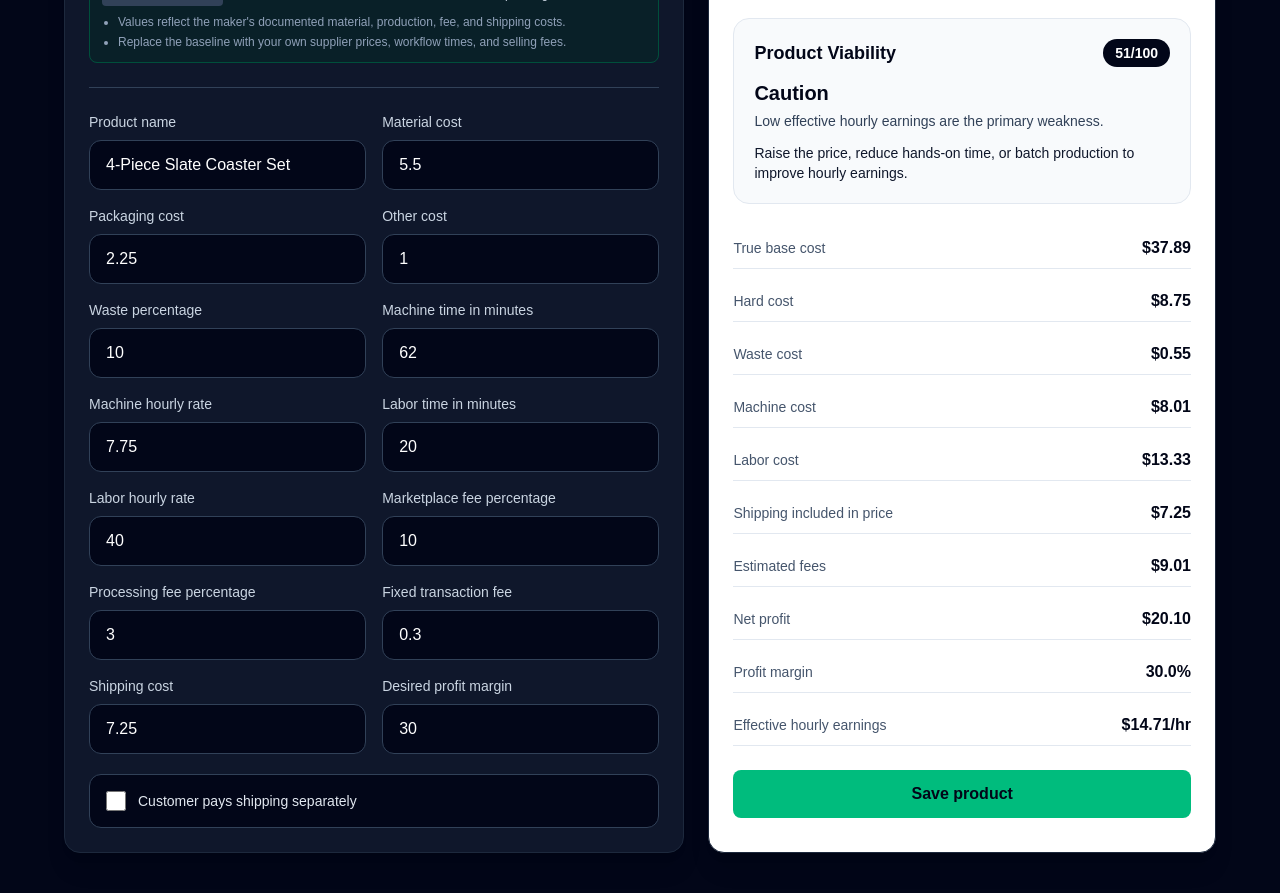
calculator save workflow › keeps the calculator operational when cloud configuration is missing
(page scrolled)
Step 1. Click the button "Save product" → click(962, 794), box [733, 770, 1191, 818]
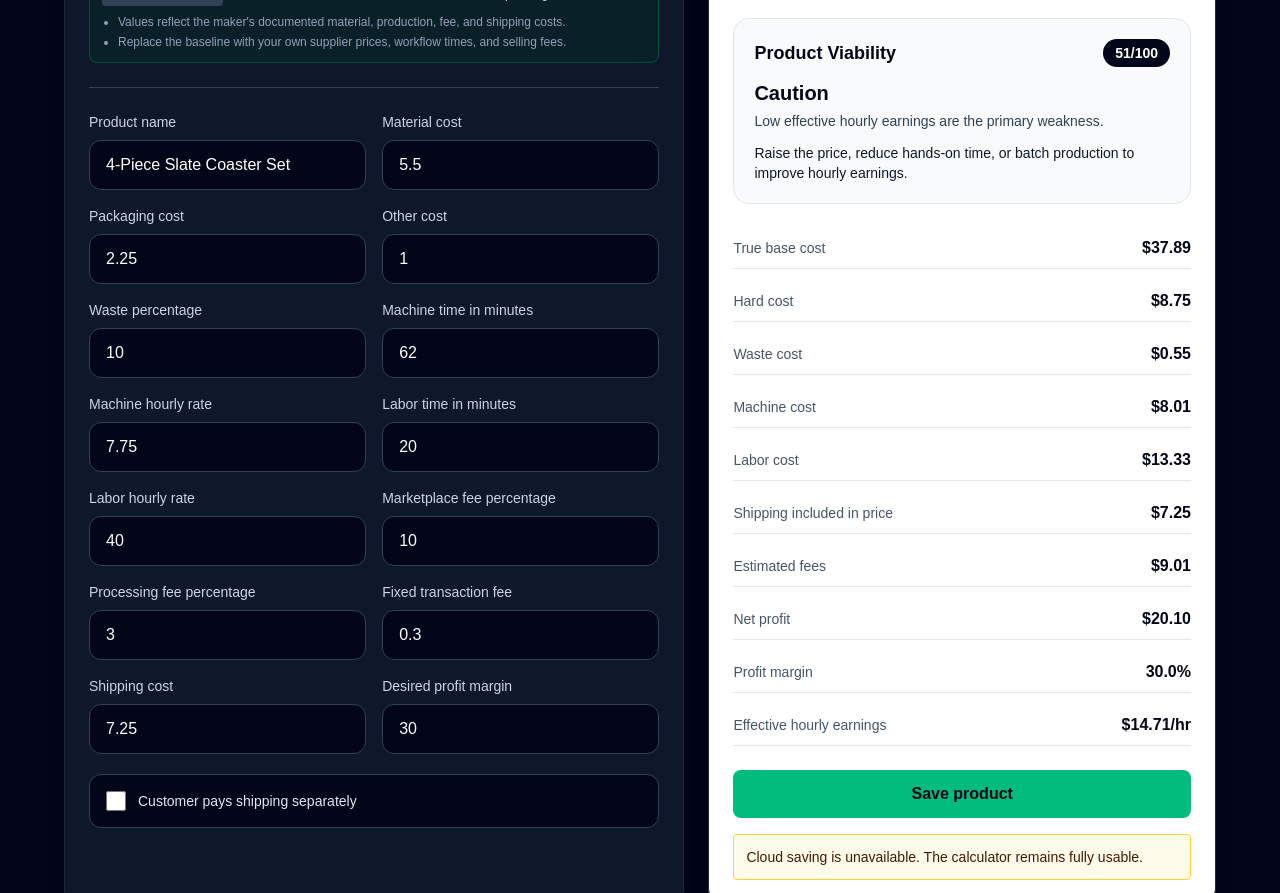
Expected: the message shows "Cloud saving is unavailable", [746, 849, 1143, 865]
